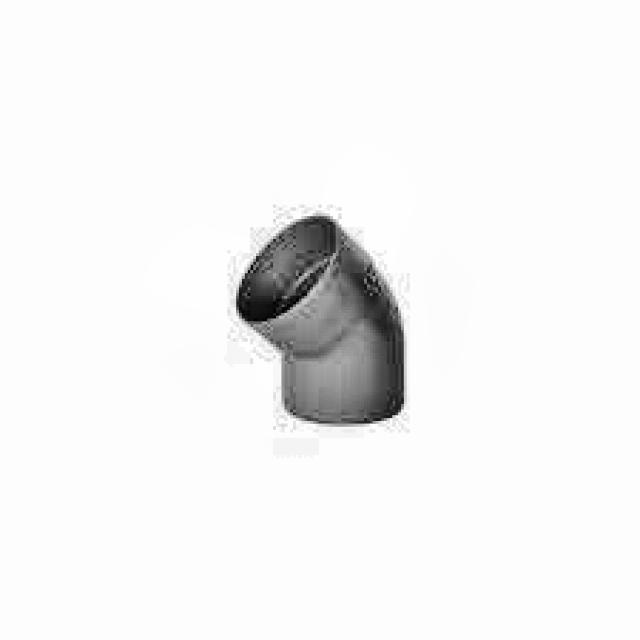ELBOW45: (233, 216, 410, 430)
